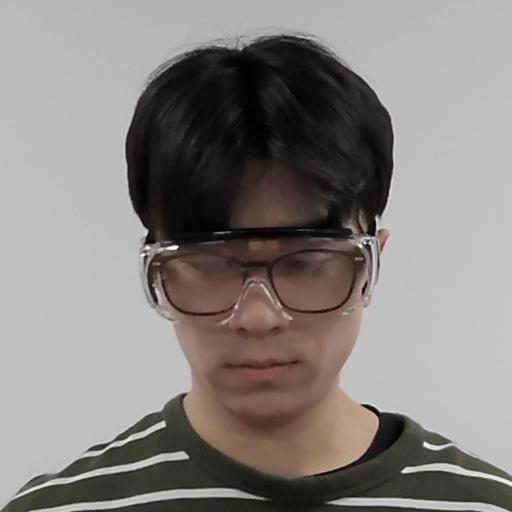glasses: (126, 45, 394, 422)
